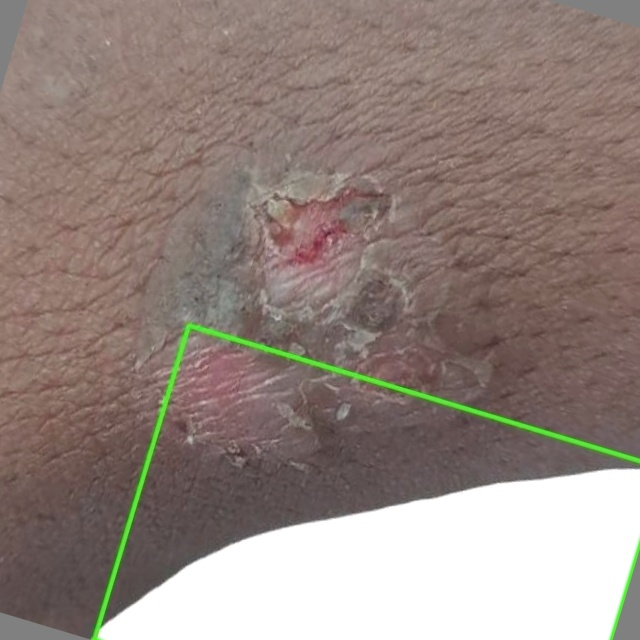Contact Dermatitis: (94, 325, 639, 639)
